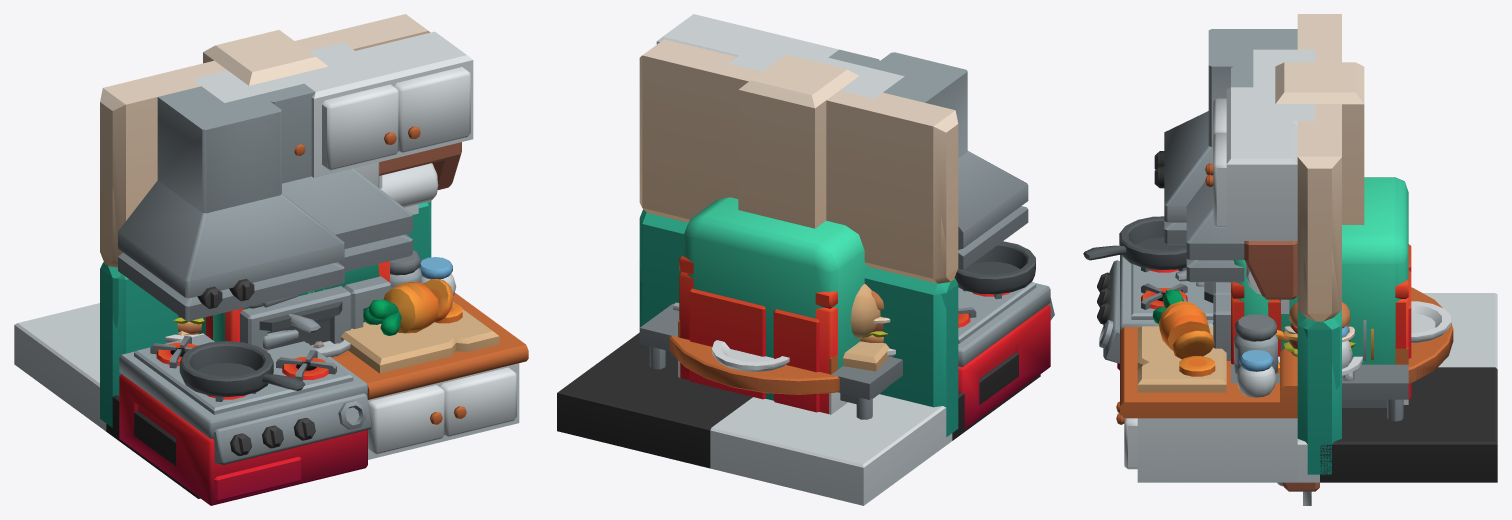
Rendered from kitchen.glb.
3 renders of one model, left to right at view 1: azimuth 30°, elevation 25°; view 2: azimuth 150°, elevation 25°; view 3: azimuth 270°, elevation 25°, orthographic. The views are drawn at different scales.
Visible parts, largest first — view 1: wall_decorated, extractorhood, floor_kitchen, oven_door, pillar_B, kitchencabinet_half, Cube.068, table_round_A_decorated, fridge_B_door, fridge_A_door_top, wall_window_closed, pillar_A; view 2: wall_decorated, wall, floor_kitchen, Cube.106, pillar_B, Cube.068, wall_doorway, table_round_A_decorated, Cube.616, wall_window_closed, kitchentable_A_large, kitchentable_A_large_decorated (+3 smaller); view 3: wall_decorated, floor_kitchen, Cube.616, wall_half, pillar_B, Cube.106, extractorhood, table_round_A_decorated, Cube.068, kitchencabinet_half, kitchentable_A_large, wall (+6 smaller).
Boxes of the visible parts, <box> form: wall_decorated: <box>100,14,528,505</box>; extractorhood: <box>261,83,412,271</box>; floor_kitchen: <box>14,303,200,498</box>; oven_door: <box>240,286,351,351</box>; pillar_B: <box>203,30,328,85</box>; kitchencabinet_half: <box>192,42,375,155</box>; Cube.068: <box>206,261,391,341</box>; table_round_A_decorated: <box>165,315,351,358</box>; fridge_B_door: <box>213,285,341,349</box>; fridge_A_door_top: <box>244,264,379,309</box>; wall_window_closed: <box>101,187,431,328</box>; pillar_A: <box>241,40,290,61</box>; wall_decorated: <box>639,14,1054,436</box>; wall: <box>642,55,933,407</box>; floor_kitchen: <box>557,332,1040,505</box>; Cube.106: <box>683,197,868,400</box>; pillar_B: <box>738,54,858,228</box>; Cube.068: <box>679,255,837,413</box>; wall_doorway: <box>642,56,933,405</box>; table_round_A_decorated: <box>670,290,895,393</box>; Cube.616: <box>696,197,867,368</box>; wall_window_closed: <box>639,56,957,400</box>; kitchentable_A_large: <box>639,303,902,419</box>; kitchentable_A_large_decorated: <box>639,284,901,419</box>; wall_decorated: <box>1083,14,1341,482</box>; floor_kitchen: <box>1142,293,1497,482</box>; Cube.616: <box>1279,177,1395,364</box>; wall_half: <box>1300,157,1341,474</box>; pillar_B: <box>1275,62,1364,224</box>; Cube.106: <box>1281,177,1408,364</box>; extractorhood: <box>1186,66,1253,282</box>; table_round_A_decorated: <box>1208,287,1453,377</box>; Cube.068: <box>1213,244,1411,398</box>; kitchencabinet_half: <box>1253,49,1315,126</box>; kitchentable_A_large: <box>1231,363,1408,421</box>; wall: <box>1315,168,1331,439</box>.
Size of the model in its own units: 4.01 by 5.01 by 4.66.
Materials: 1 (1 with a texture image).
